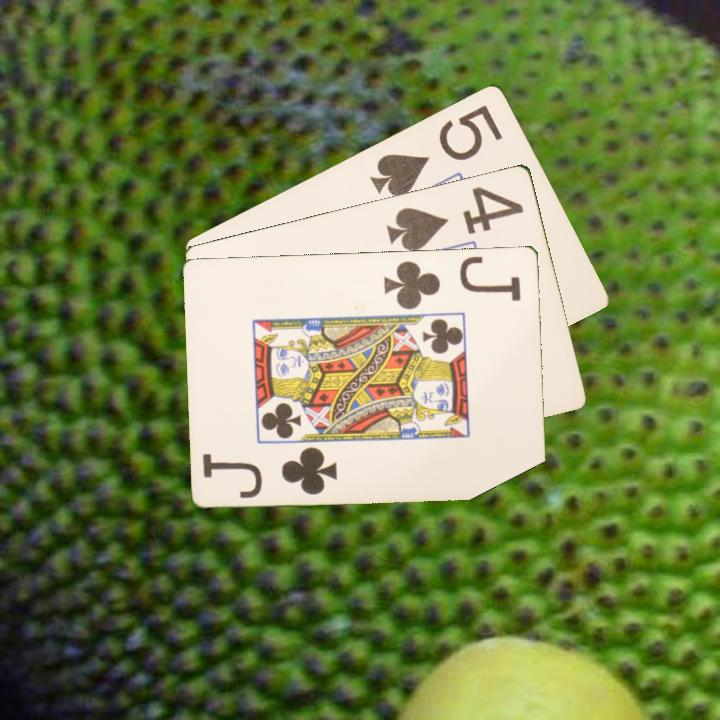4s: (383, 182, 527, 254)
5s: (366, 100, 506, 199)
Jc: (381, 252, 524, 312), (199, 443, 340, 501)
